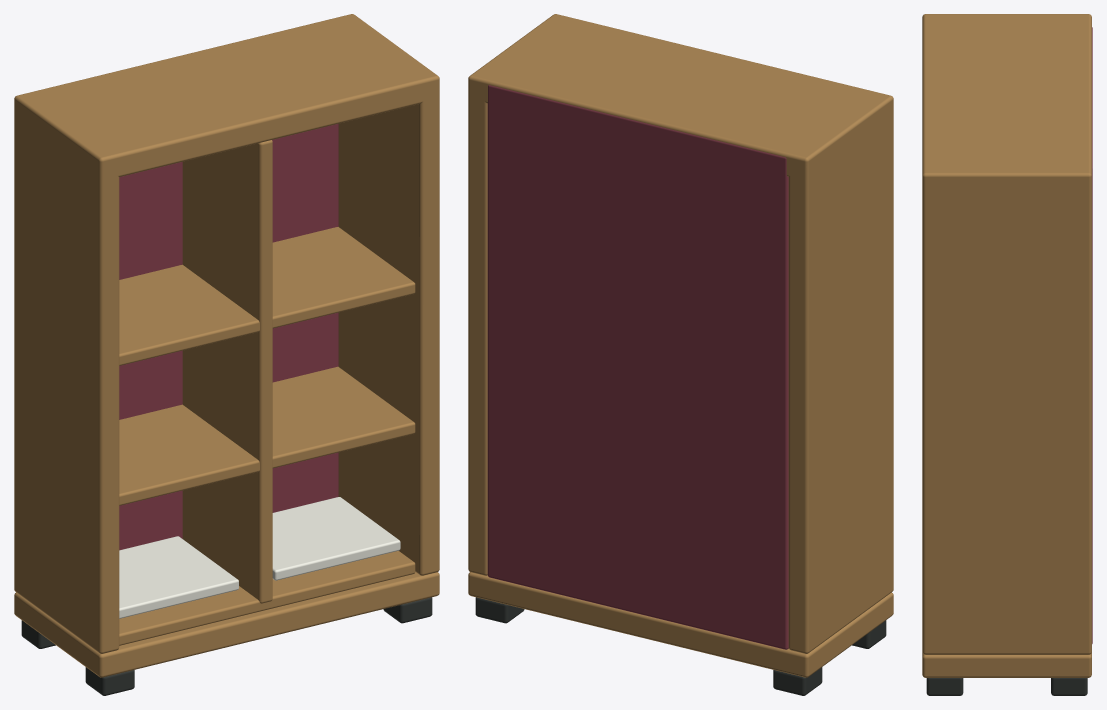
The model's file is abandoned-puppet-theatre-and-prop-vault-puppet-storage-5b04141d__31077.glb.
3 renders of one model, left to right at view 1: azimuth 30°, elevation 25°; view 2: azimuth 150°, elevation 25°; view 3: azimuth 270°, elevation 25°, orthographic. The views are drawn at different scales.
Parts seen in each view (by area): view 1: puppet-storage-cabinet; view 2: puppet-storage-cabinet; view 3: puppet-storage-cabinet.
Boxes of the visible parts, left/top/right/bottom form: puppet-storage-cabinet: left=14, top=14, right=439, bottom=695; puppet-storage-cabinet: left=468, top=14, right=893, bottom=695; puppet-storage-cabinet: left=922, top=14, right=1092, bottom=695.
Size of the model in its own units: 1.35 by 2.05 by 0.6025.
